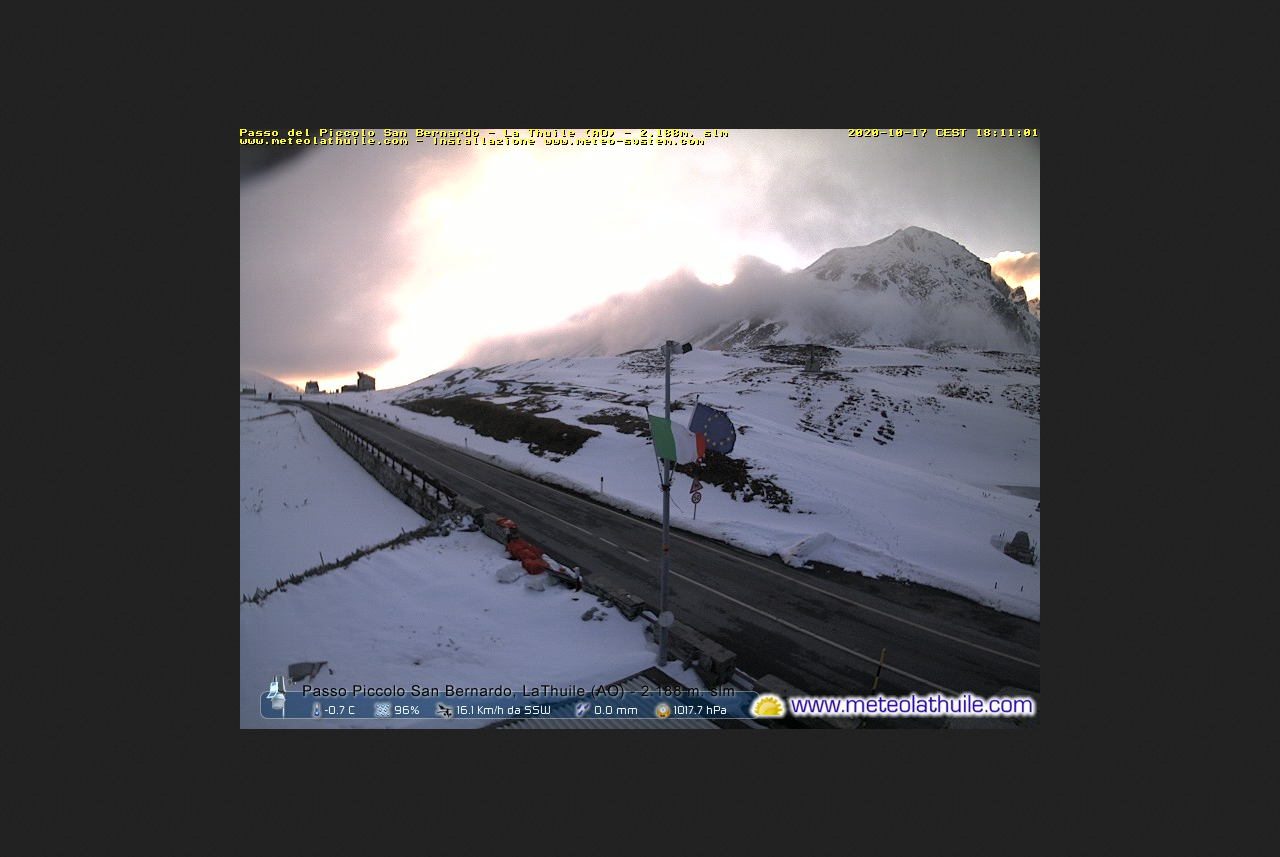yes: (638, 403, 708, 474), (684, 396, 739, 468)
